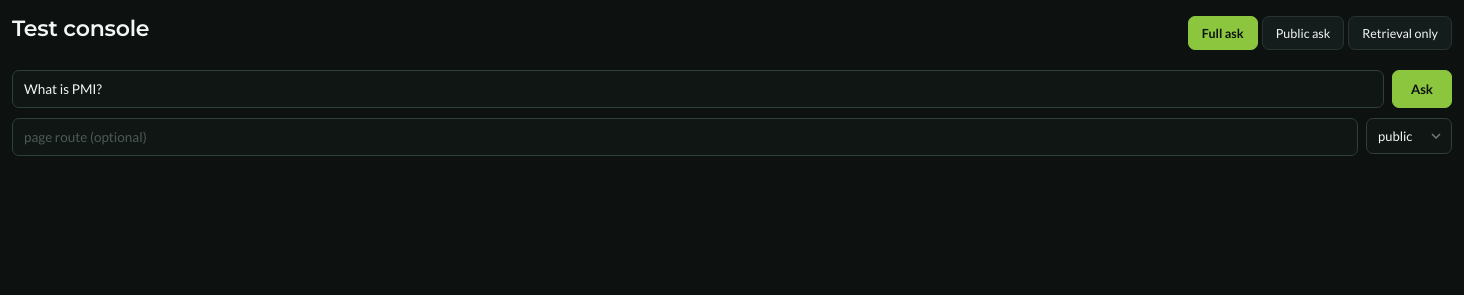
Test: TestConsole › does not render feedback buttons when the answer has no traceId
This screenshot has width=1464, height=295.
What coordinates should you click on to do the following:
click the button "Ask"
I would click on:
 (1422, 89)
Its box is [1392,70,1452,108].
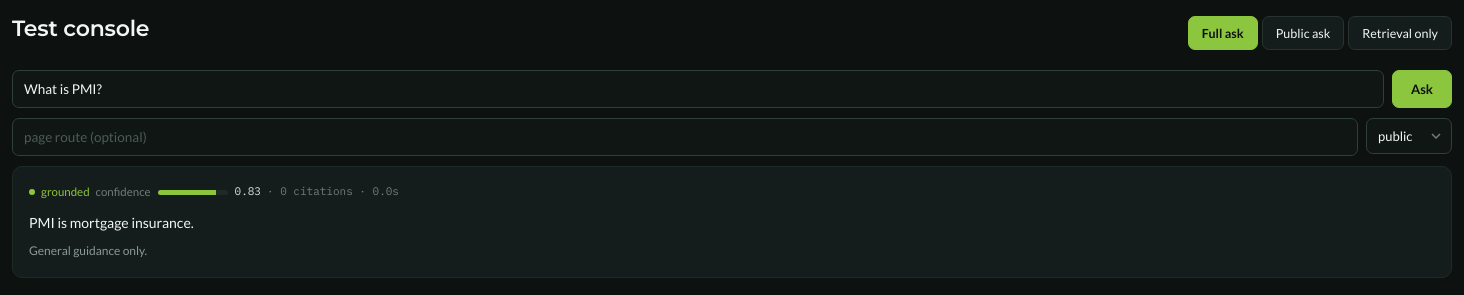
Result: the text "PMI is mortgage insurance." is shown at [29,214,194,231]
